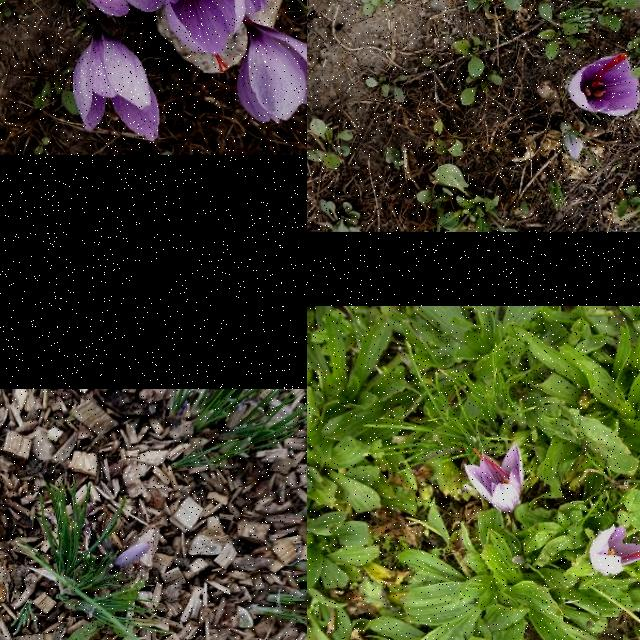flower: (71, 32, 161, 142), (135, 0, 247, 75), (236, 20, 307, 125), (569, 53, 640, 117), (464, 446, 522, 520), (590, 523, 640, 574), (111, 542, 152, 574)
